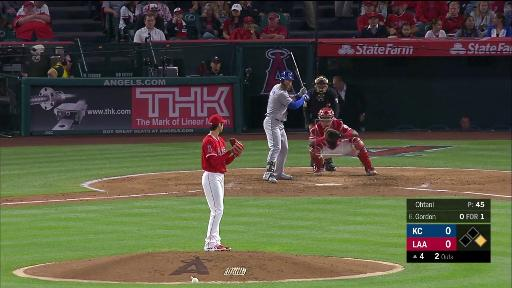pitcher: (201, 115, 242, 252)
